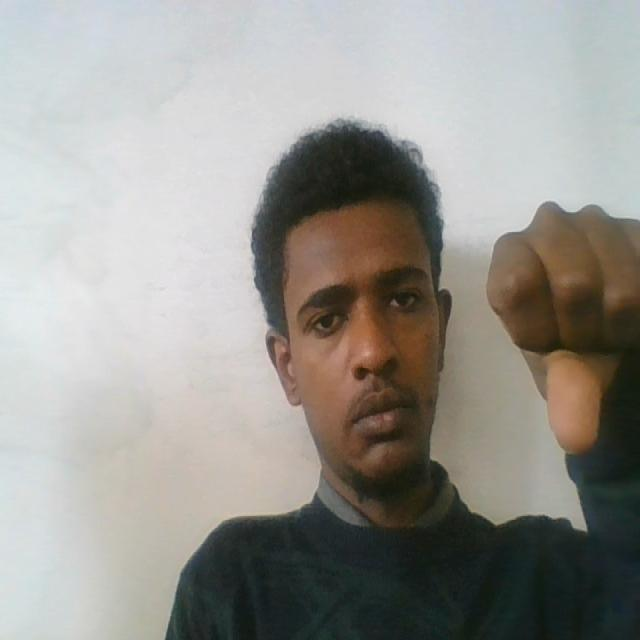yes: (471, 193, 640, 464)
